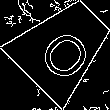O_NE: (30, 14, 96, 80)
